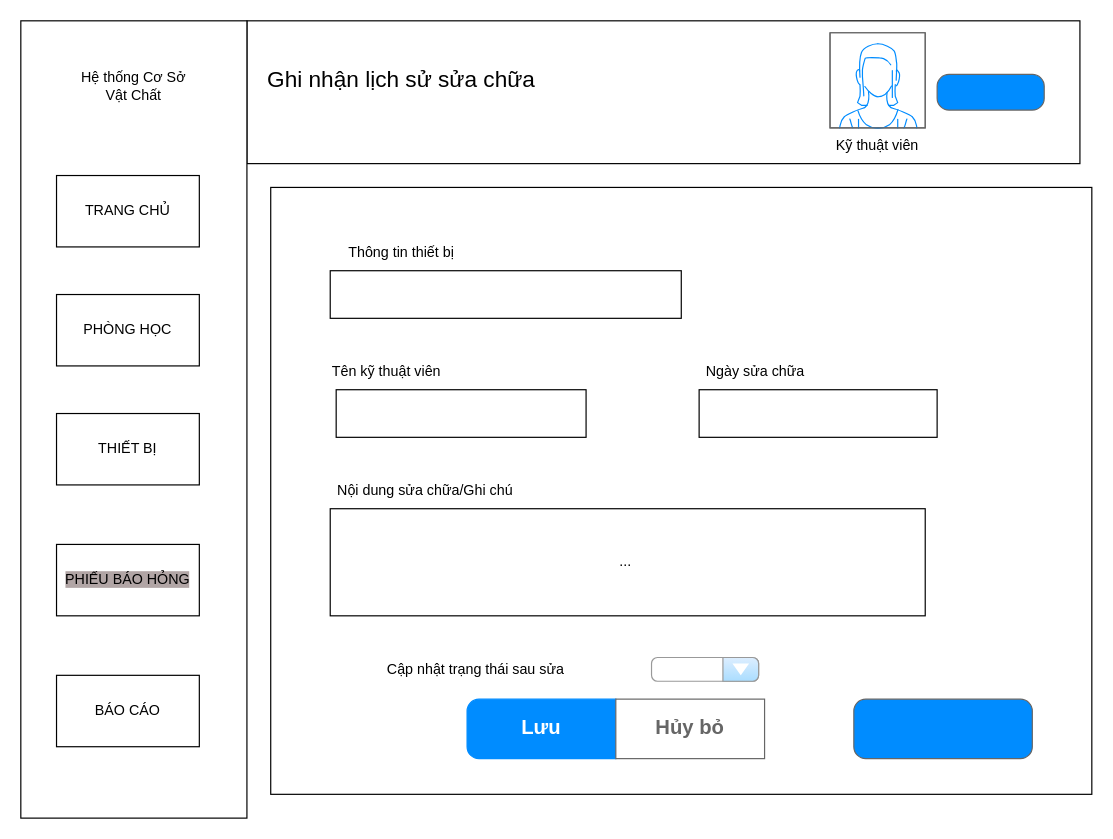
Some shapes in this 1113 by 839 pixel diagram are drawn without their labels. The shapes that lost their labels are listed below. From the top down, each one's box as (x1, y1, x2, y2) in pixels, then its label:
(936, 73, 1044, 110): Đăng xuất
(329, 270, 681, 318): Mã: TB002 | Tên: Điều hòa | Phòng: Lab02
(650, 656, 759, 681): Tốt
(853, 698, 1032, 759): < Quay lại
